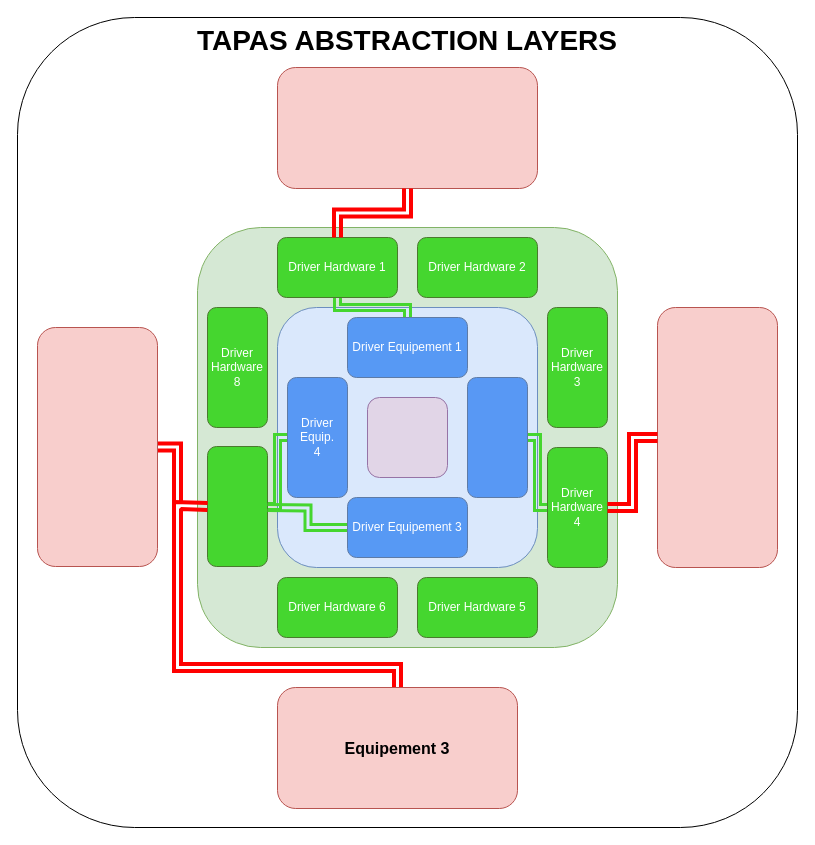
Some shapes in this 815 by 845 pixel diagram are drawn without their labels. The centre of each missing label's shape, as x and y in pixels:
"Driver Equip. 2" belongs at point 497,437.
"Driver Hardware 7" belongs at point 237,506.
"Equipement 1" belongs at point 407,127.
"Equipement 2" belongs at point 717,437.
"Equipement 4" belongs at point 97,446.
"TAPAS Applications" belongs at point 407,437.
